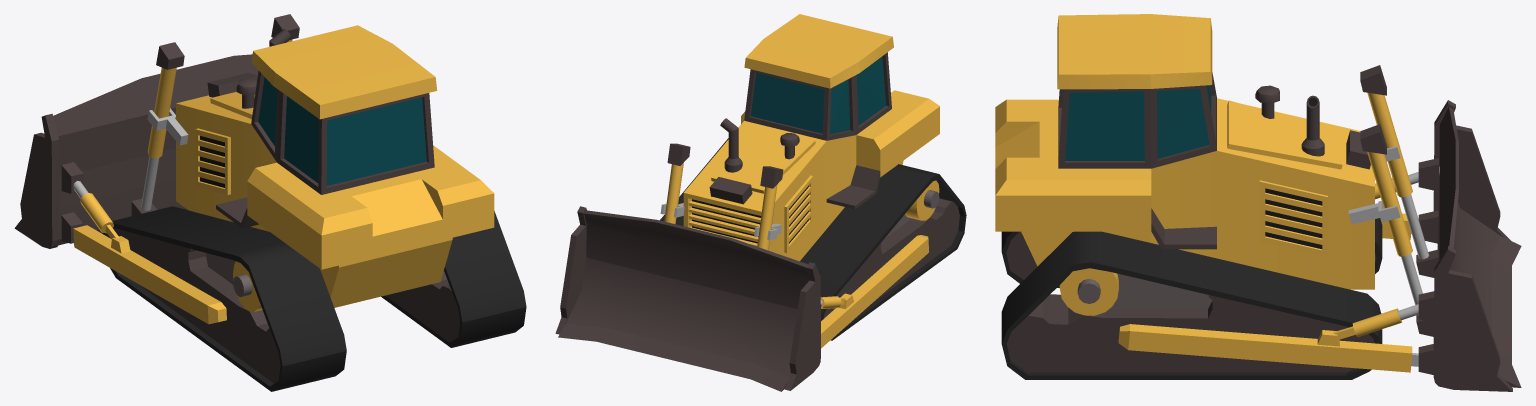
Rendered from Dozer_Better.FBX.
3 renders of one model, left to right at view 1: azimuth 30°, elevation 25°; view 2: azimuth 150°, elevation 25°; view 3: azimuth 270°, elevation 25°, orthographic. The views are drawn at different scales.
Parts seen in each view (by area): view 1: Equipment_Bulldozer_Base, Equipment_Bulldozer_SU_Blade, Equipment_Bulldozer_Push_Frame_02, Equipment_Bulldozer_Lift_Cylinder_02, Equipment_Bulldozer_Angle_Cylinder_02, Equipment_Bulldozer_Lift_Cylinder_Small_Arm_02, Equipment_Bulldozer_Lift_Cylinder_Cap_02, Equipment_Bulldozer_Lift_Cylinder_Cap_01, Equipment_Bulldozer_Air_Filter; view 2: Equipment_Bulldozer_Base, Equipment_Bulldozer_SU_Blade, Equipment_Bulldozer_Push_Frame_02, Equipment_Bulldozer_Lift_Cylinder_02, Equipment_Bulldozer_Lift_Cylinder_01, Equipment_Bulldozer_Exhaust_Pipe, Equipment_Bulldozer_Lift_Cylinder_Cap_02, Equipment_Bulldozer_Lift_Cylinder_Cap_01, Equipment_Bulldozer_Air_Filter; view 3: Equipment_Bulldozer_Base, Equipment_Bulldozer_SU_Blade, Equipment_Bulldozer_Push_Frame_01, Equipment_Bulldozer_Lift_Cylinder_02, Equipment_Bulldozer_Lift_Cylinder_01, Equipment_Bulldozer_Angle_Cylinder_01, Equipment_Bulldozer_Exhaust_Pipe, Equipment_Bulldozer_Lift_Cylinder_Small_Arm_01, Equipment_Bulldozer_Lift_Cylinder_Cap_01, Equipment_Bulldozer_Lift_Cylinder_Cap_02, Equipment_Bulldozer_Air_Filter.
Boxes of the visible parts, x1,y1,x2,y2 form: Equipment_Bulldozer_Base: [102, 25, 526, 391]; Equipment_Bulldozer_SU_Blade: [14, 54, 258, 248]; Equipment_Bulldozer_Push_Frame_02: [73, 225, 226, 324]; Equipment_Bulldozer_Lift_Cylinder_02: [141, 67, 176, 210]; Equipment_Bulldozer_Angle_Cylinder_02: [73, 181, 119, 239]; Equipment_Bulldozer_Lift_Cylinder_Small_Arm_02: [147, 108, 188, 145]; Equipment_Bulldozer_Lift_Cylinder_Cap_02: [156, 42, 184, 69]; Equipment_Bulldozer_Lift_Cylinder_Cap_01: [271, 14, 299, 39]; Equipment_Bulldozer_Air_Filter: [236, 78, 256, 108]; Equipment_Bulldozer_Base: [660, 14, 966, 340]; Equipment_Bulldozer_SU_Blade: [555, 206, 820, 391]; Equipment_Bulldozer_Push_Frame_02: [821, 235, 928, 348]; Equipment_Bulldozer_Lift_Cylinder_02: [757, 185, 777, 250]; Equipment_Bulldozer_Lift_Cylinder_01: [664, 162, 683, 224]; Equipment_Bulldozer_Exhaust_Pipe: [720, 118, 742, 172]; Equipment_Bulldozer_Lift_Cylinder_Cap_02: [760, 166, 783, 188]; Equipment_Bulldozer_Lift_Cylinder_Cap_01: [667, 143, 690, 165]; Equipment_Bulldozer_Air_Filter: [780, 133, 799, 159]; Equipment_Bulldozer_Base: [995, 14, 1382, 379]; Equipment_Bulldozer_SU_Blade: [1416, 100, 1521, 391]; Equipment_Bulldozer_Push_Frame_01: [1118, 324, 1418, 372]; Equipment_Bulldozer_Lift_Cylinder_02: [1367, 92, 1429, 259]; Equipment_Bulldozer_Lift_Cylinder_01: [1367, 151, 1422, 315]; Equipment_Bulldozer_Angle_Cylinder_01: [1333, 304, 1418, 339]; Equipment_Bulldozer_Exhaust_Pipe: [1301, 95, 1324, 156]; Equipment_Bulldozer_Lift_Cylinder_Small_Arm_01: [1348, 201, 1400, 224]; Equipment_Bulldozer_Lift_Cylinder_Cap_01: [1360, 124, 1386, 154]; Equipment_Bulldozer_Lift_Cylinder_Cap_02: [1360, 65, 1386, 95]; Equipment_Bulldozer_Air_Filter: [1255, 85, 1279, 118].
Size of the model in its own units: 360 by 307 by 535.
